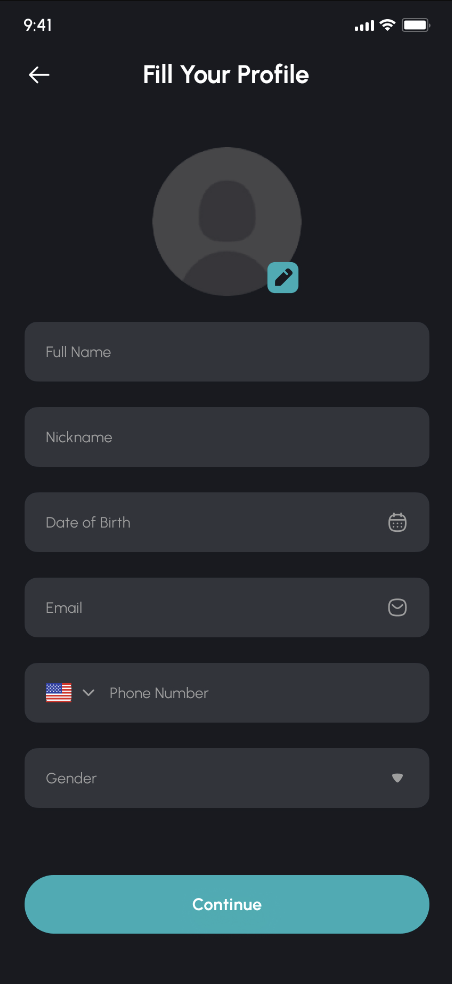Input: (22, 657, 433, 727), (20, 316, 433, 385), (21, 402, 434, 471), (21, 743, 433, 812), (22, 572, 433, 641), (23, 488, 432, 556)
